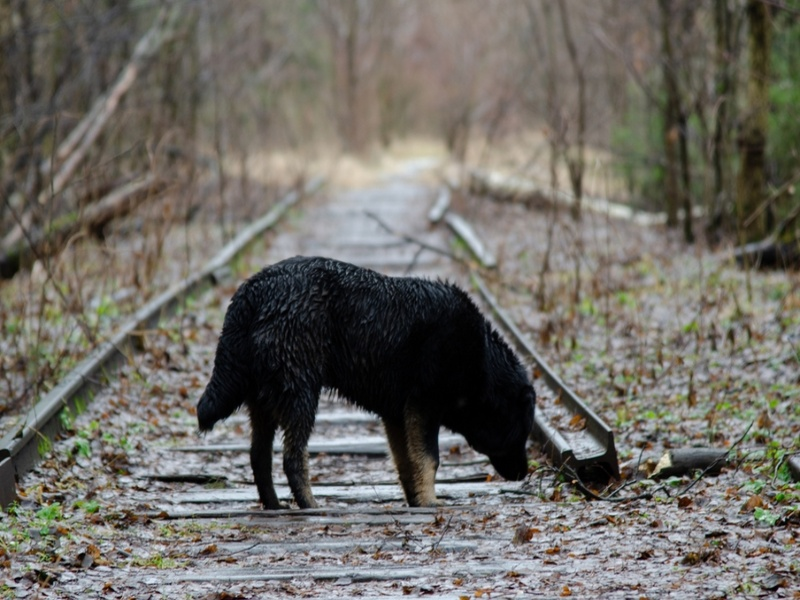dog: (192, 253, 536, 516)
